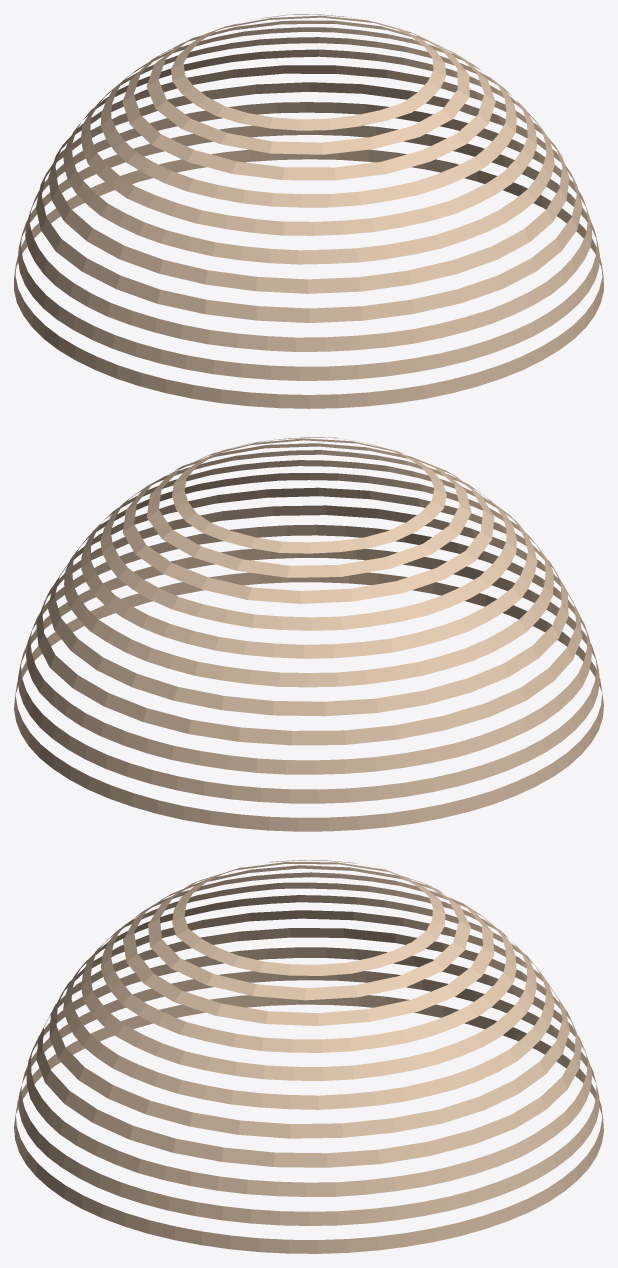
File: Wood Architecture_03.fbx
3 renders of one model, top to bottom at view 1: azimuth 30°, elevation 25°; view 2: azimuth 150°, elevation 25°; view 3: azimuth 270°, elevation 25°, orthographic.
Parts seen in each view (by area): view 1: Woodarchitecture3; view 2: Woodarchitecture3; view 3: Woodarchitecture3.
Boxes of the visible parts, <box> form: Woodarchitecture3: <box>14,14,603,408</box>; Woodarchitecture3: <box>14,437,603,831</box>; Woodarchitecture3: <box>14,860,603,1253</box>.
Bounding box in the file's own units: 5.95 × 2.42 × 5.96.
